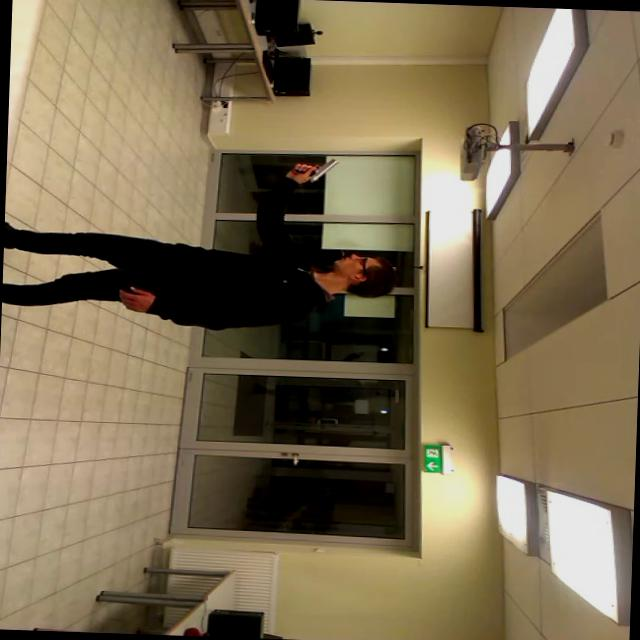handgun: (282, 149, 342, 186)
